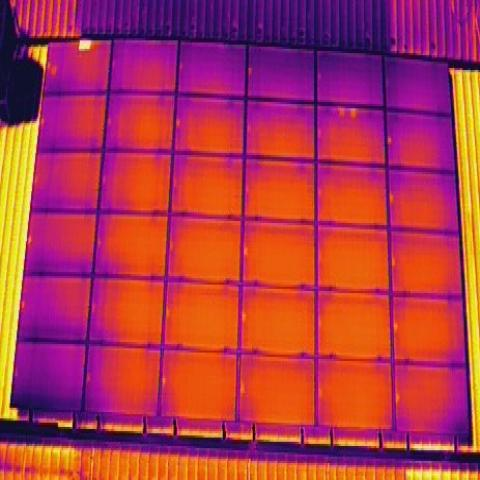fault: (77, 36, 93, 53), (349, 103, 358, 120), (338, 103, 346, 120), (49, 65, 58, 77)
